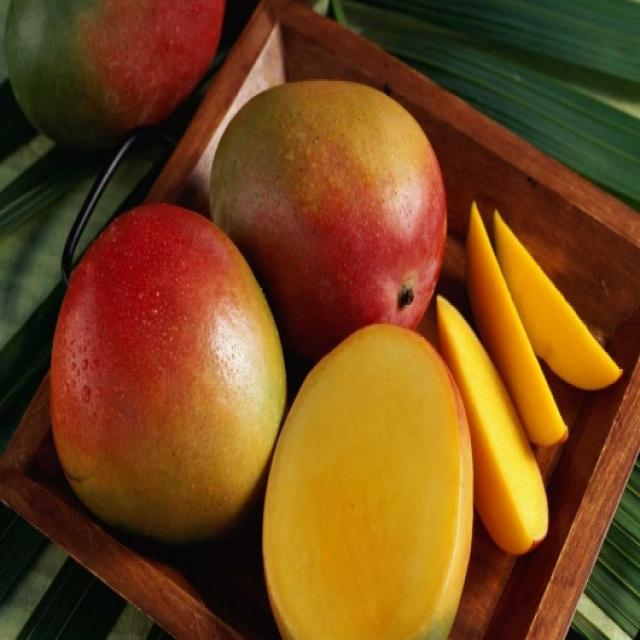mango: (37, 200, 285, 534), (212, 82, 444, 358)
